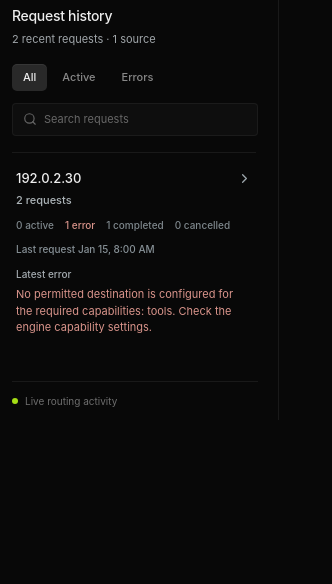
Test: searches request evidence and exposes exact matches: OpenAI/Python
In the field labelled "Search requests": (146, 119) [44,104,247,135], type "OpenAI/Python"
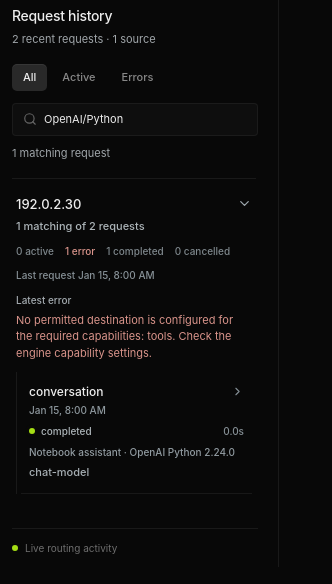
Now the text "1 matching request" is shown, box [12,146,110,160]
